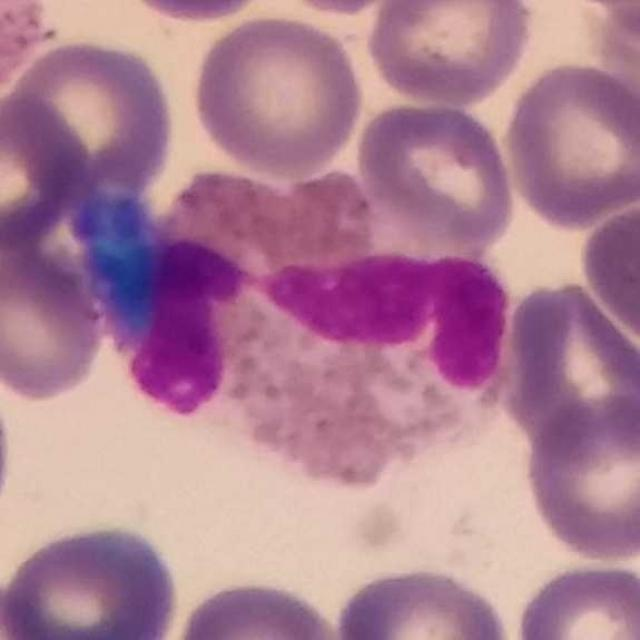eosino: (152, 152, 512, 473)
